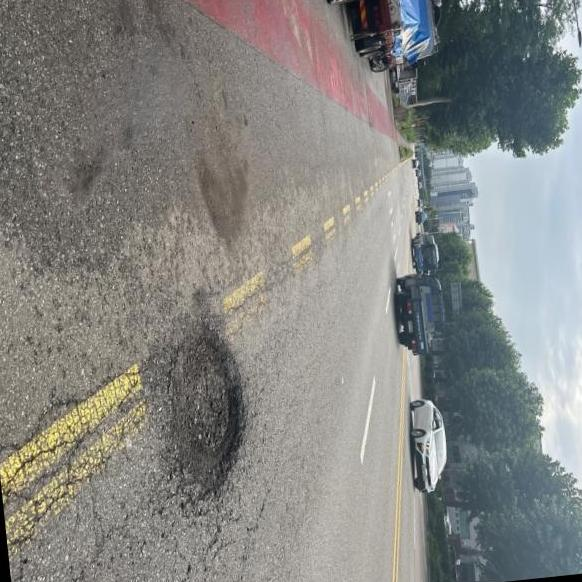pothole: (150, 311, 282, 512)
